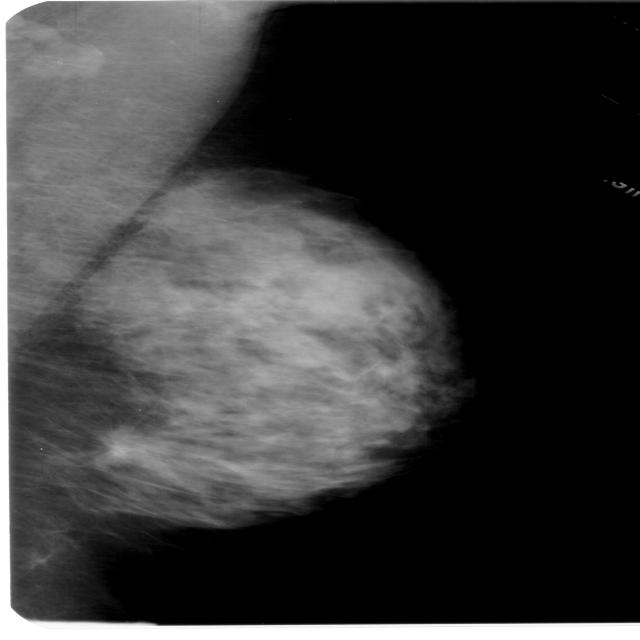cancer: (71, 217, 442, 530)
